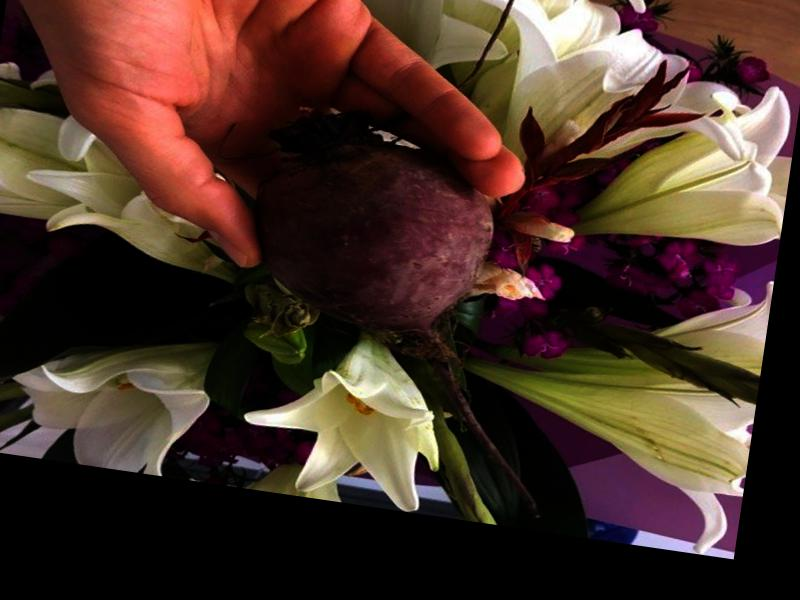Beet: (218, 100, 595, 515)
